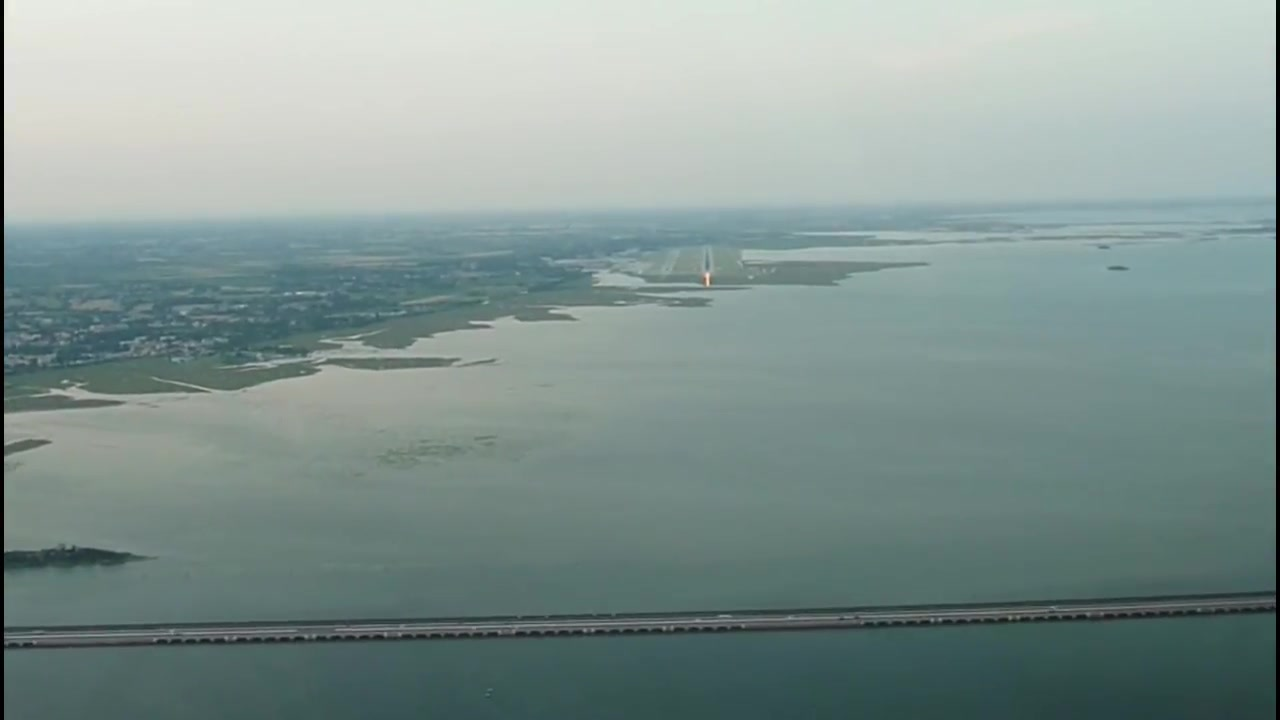runway: (658, 246, 680, 277), (700, 244, 717, 276)
